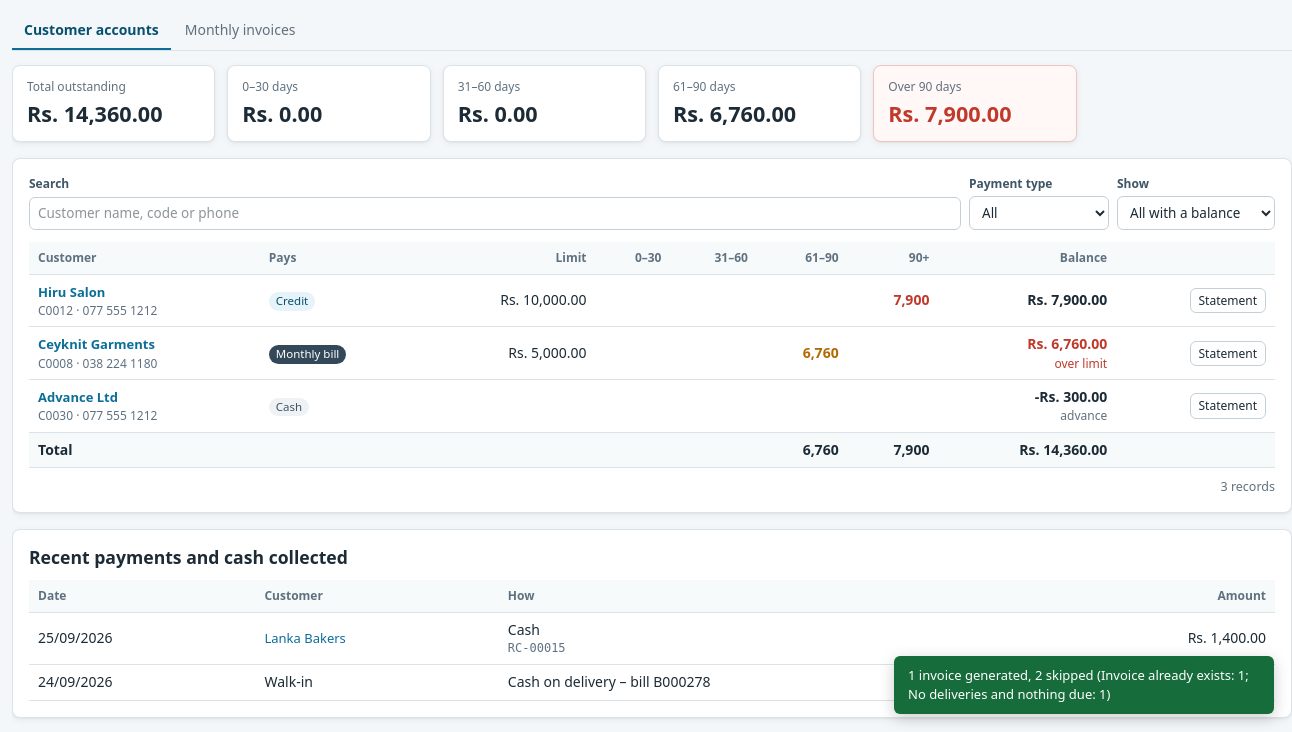
Test case: Billing & Payments › a role with view only sees the accounts and invoices but cannot receive or generate
This screenshot has width=1292, height=732.
Check: the button "Statement" in the row of "C0012" is shown, box top-left (1190, 288), bottom-right (1266, 313)
What coordinates should you click on to do the following:
click the tab "Monthly invoices"
I would click on:
 (240, 31)
Its box is top-left (173, 12), bottom-right (308, 50).
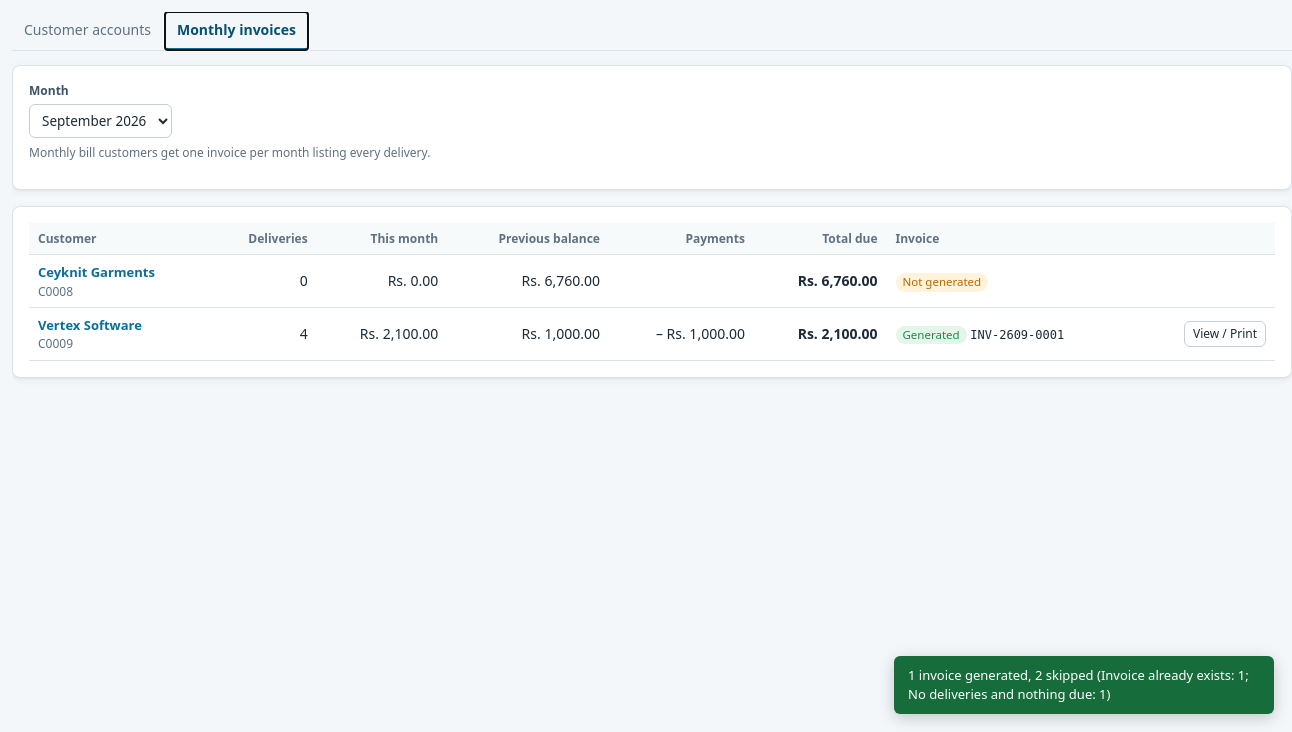
Check: the button "Vertex Software" is shown, box top-left (38, 316), bottom-right (142, 335)
